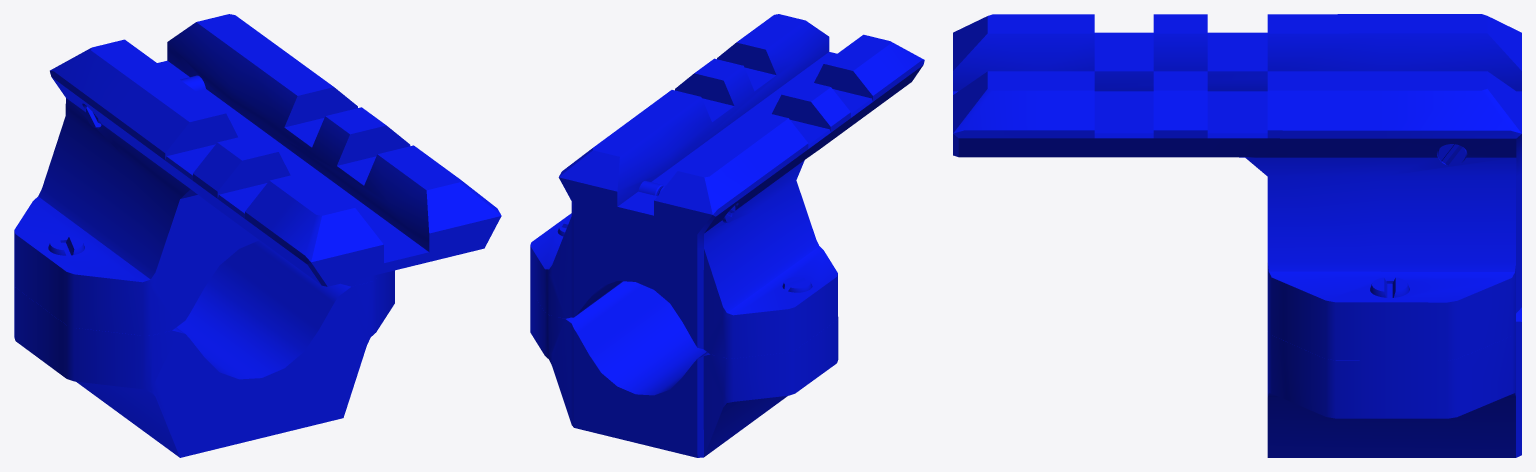
Rendered from DFS.FBX.
3 views of the same model, side by side, from view 1: azimuth 30°, elevation 25°; view 2: azimuth 150°, elevation 25°; view 3: azimuth 270°, elevation 25° (orthographic). The views are drawn at different scales.
Visible parts, largest first — view 1: DF_BaseBodyTop, DF_BaseBodyDown2, ScrewBaseBody; view 2: DF_BaseBodyTop, DF_BaseBodyDown2; view 3: DF_BaseBodyTop, DF_BaseBodyDown2, ScrewBaseBody.
Boxes of the visible parts, bbox=[...] form: DF_BaseBodyTop: bbox=[14, 14, 501, 335]; DF_BaseBodyDown2: bbox=[14, 240, 394, 457]; ScrewBaseBody: bbox=[48, 236, 84, 255]; DF_BaseBodyTop: bbox=[530, 14, 924, 358]; DF_BaseBodyDown2: bbox=[530, 281, 838, 457]; DF_BaseBodyTop: bbox=[953, 14, 1521, 360]; DF_BaseBodyDown2: bbox=[1267, 307, 1521, 457]; ScrewBaseBody: bbox=[1370, 277, 1409, 297].
Size of the model in its own units: 3.61 by 3.51 by 5.
